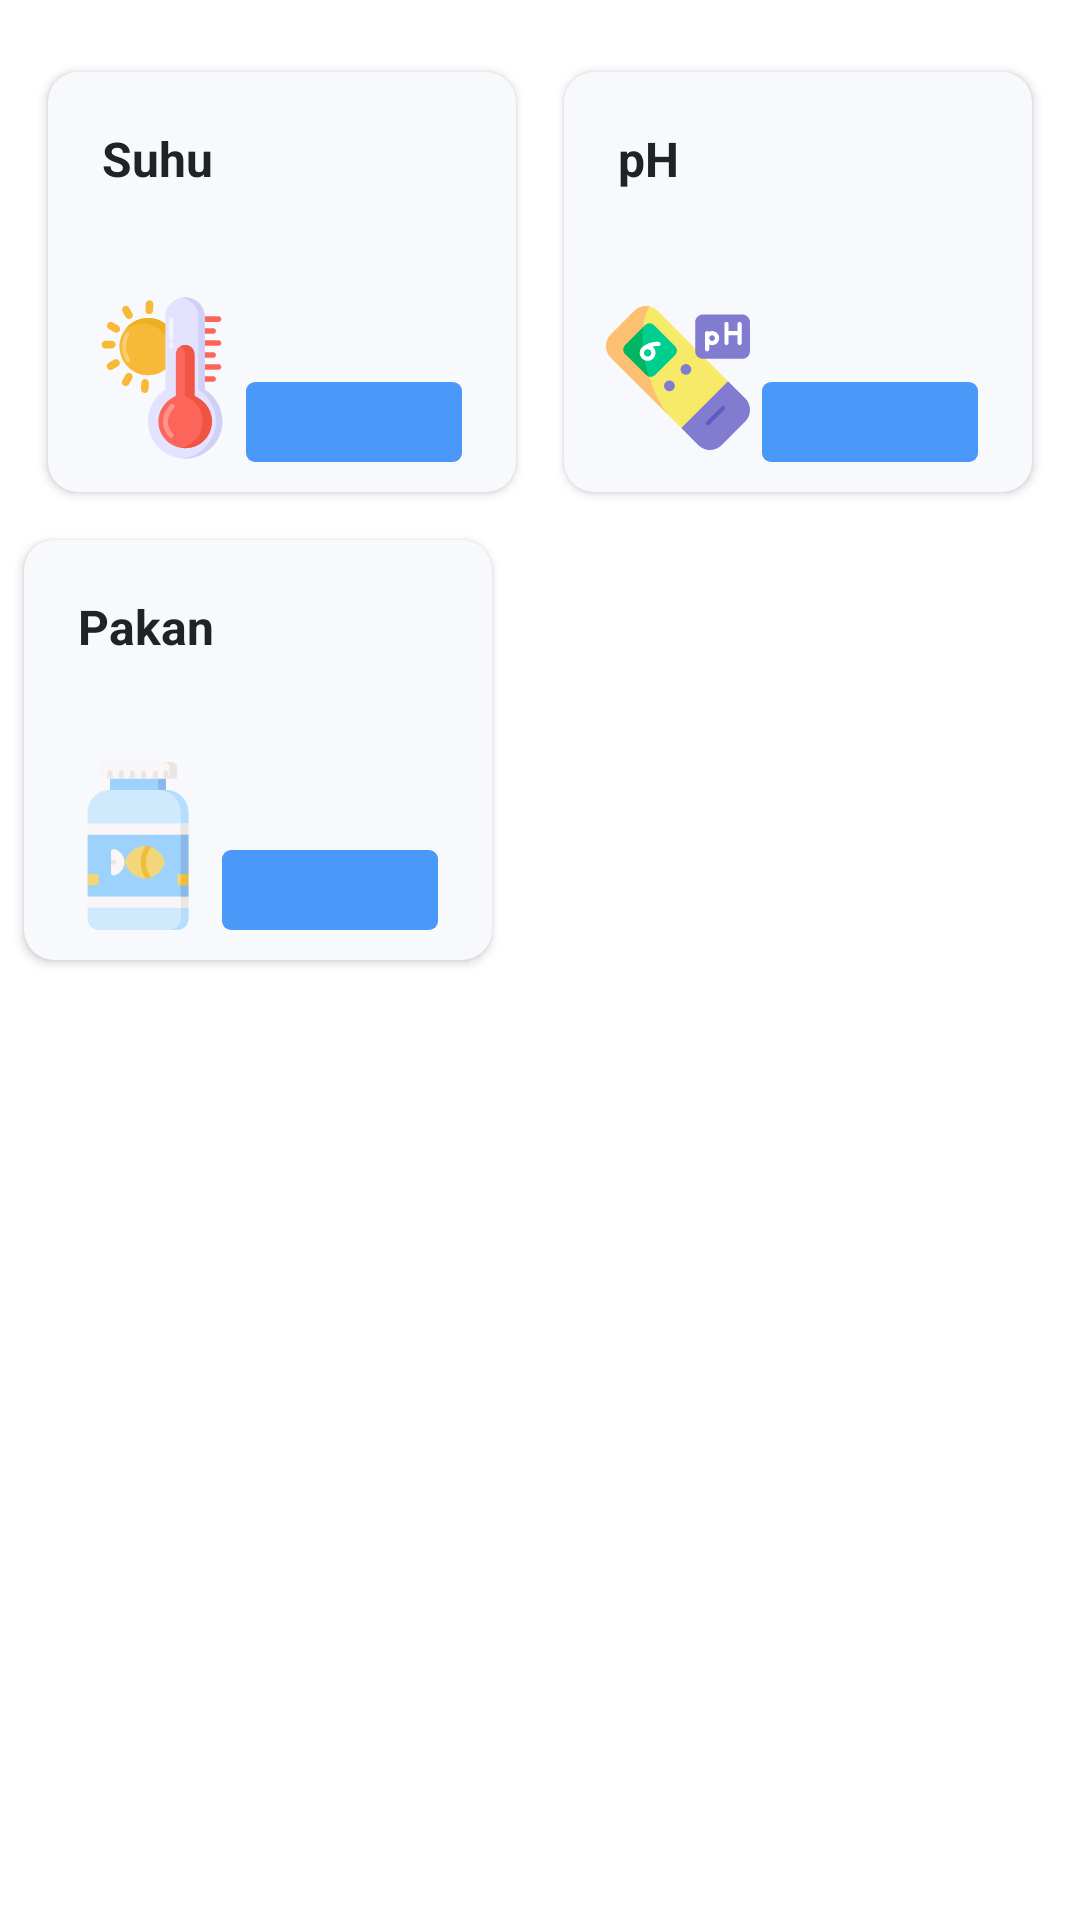

Point at icon controls on the screen. Image size 1080*1920, points as point (x, y).
fish feed: point (138, 846)
meter: point (678, 378)
temperature: point (161, 378)
